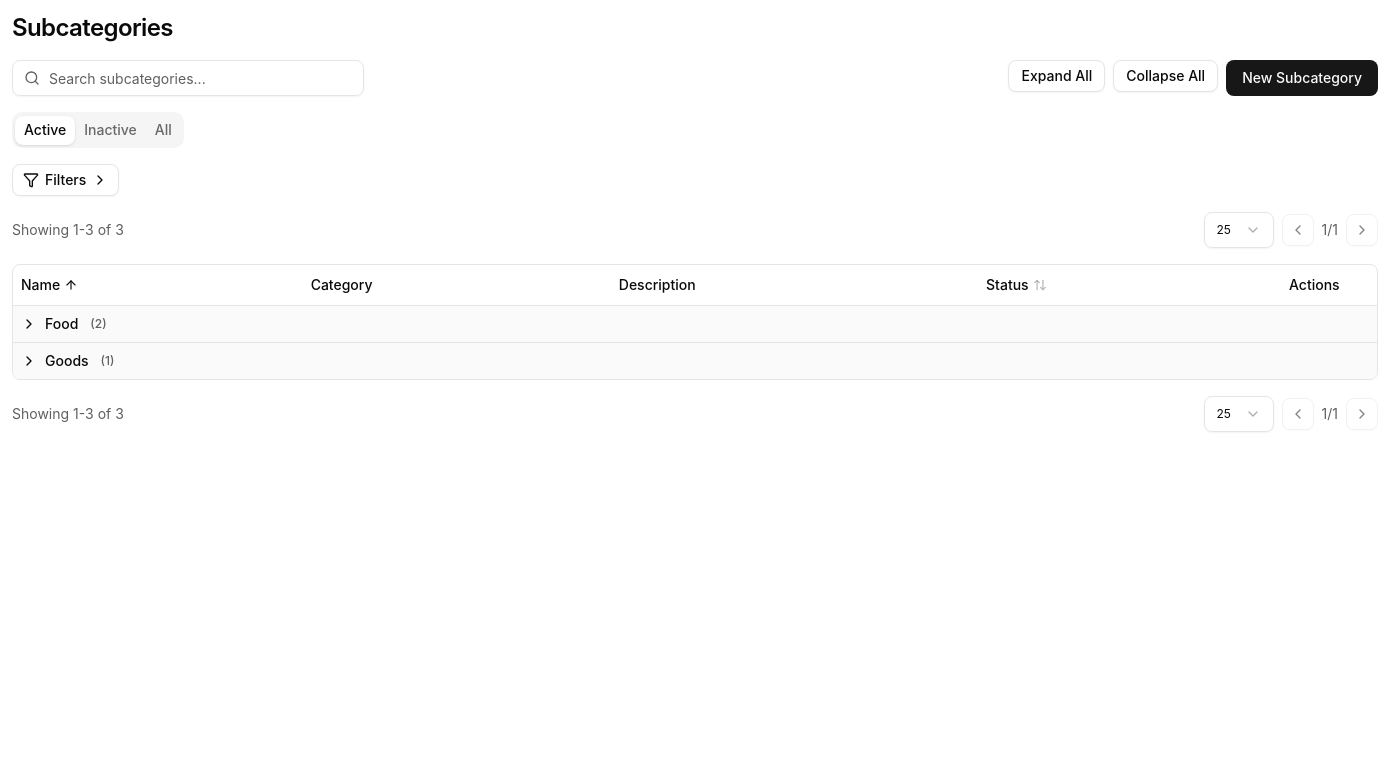
Scenario: Subcategories › Expand All button expands all groups
Click the button "Expand All": (1057, 76) [1008,60,1105,92]
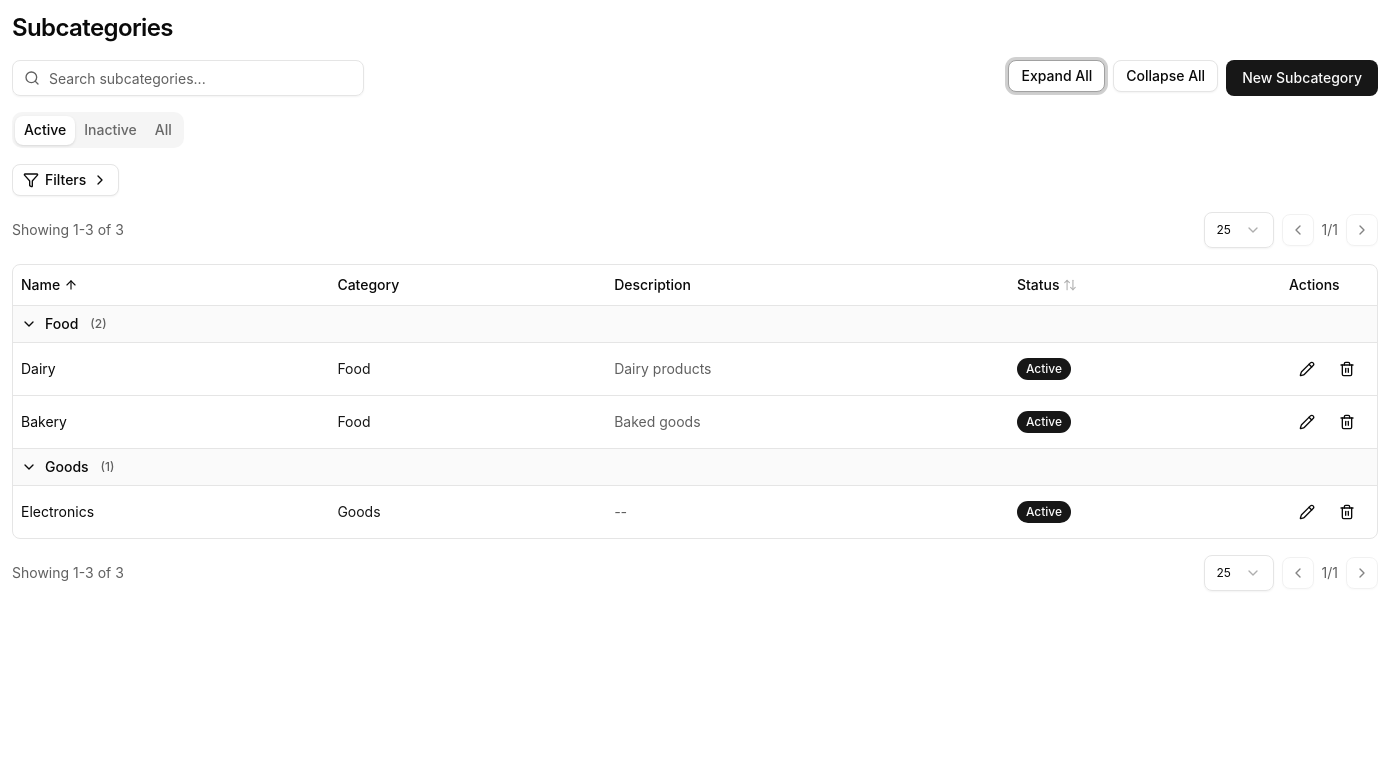
Result: the text "Dairy" is shown at [13,342,329,395]
Result: the text "Bakery" is shown at [13,395,329,448]
Result: the text "Electronics" is shown at [13,485,329,538]
